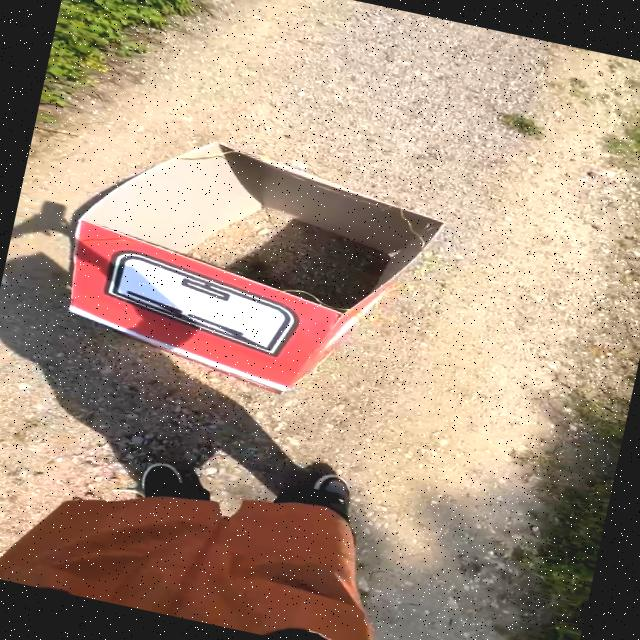red_car: (4, 63, 492, 457)
